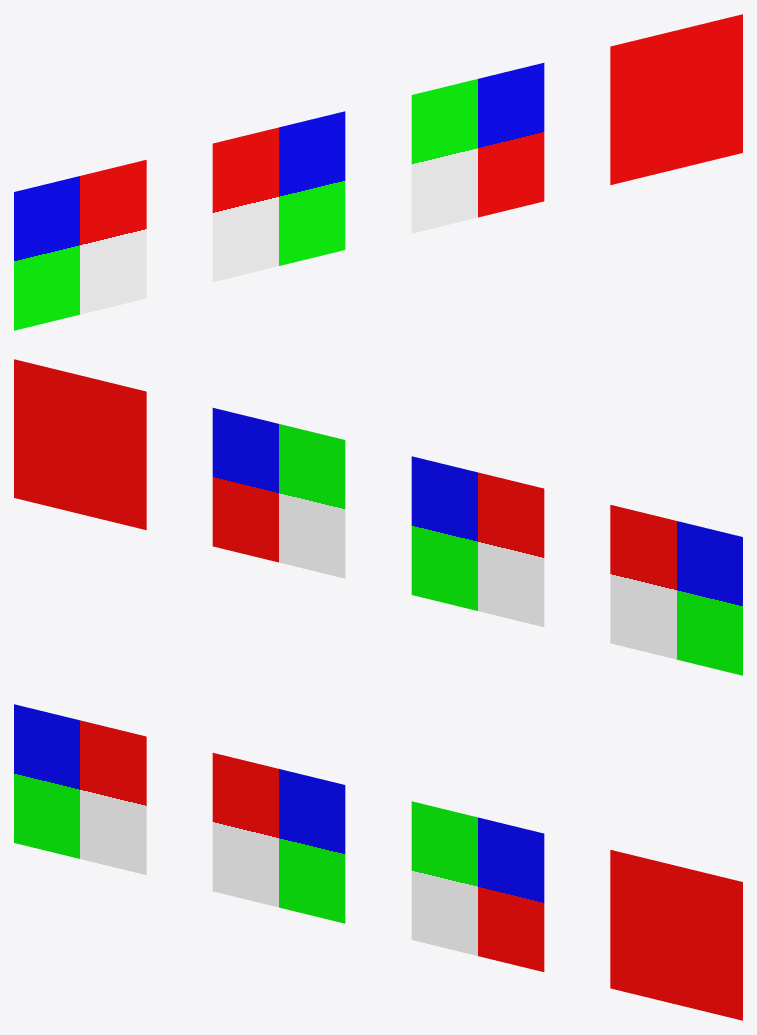
The model's file is test_gltf_uvtrafo.glb.
3 views of the same model, one above another, from view 1: azimuth 30°, elevation 25°; view 2: azimuth 150°, elevation 25°; view 3: azimuth 330°, elevation 25° (orthographic).
Parts seen in each view (by area): view 1: tafeln; view 2: tafeln; view 3: tafeln.
Boxes of the visible parts, x1,y1,x2,y2 form: tafeln: (14,14,742,330); tafeln: (14,359,742,675); tafeln: (14,704,742,1020).
Size of the model in its own units: 11 by 2 by 0.
4 materials, 4 textured.
